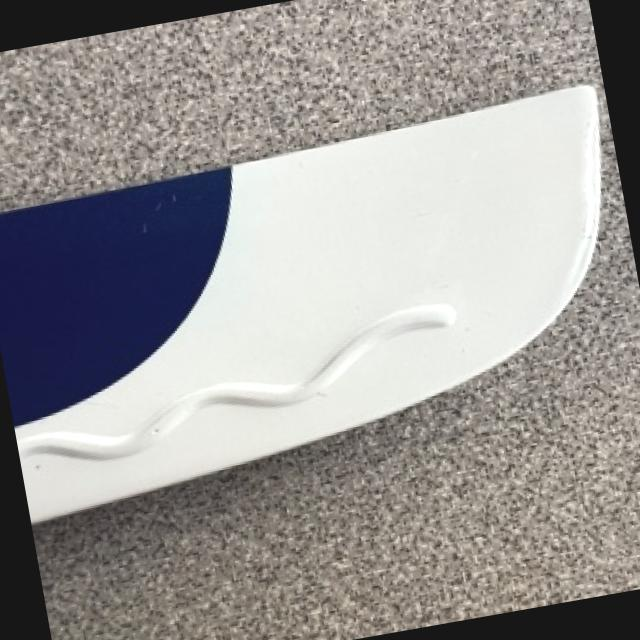healthy: (0, 84, 603, 520)
